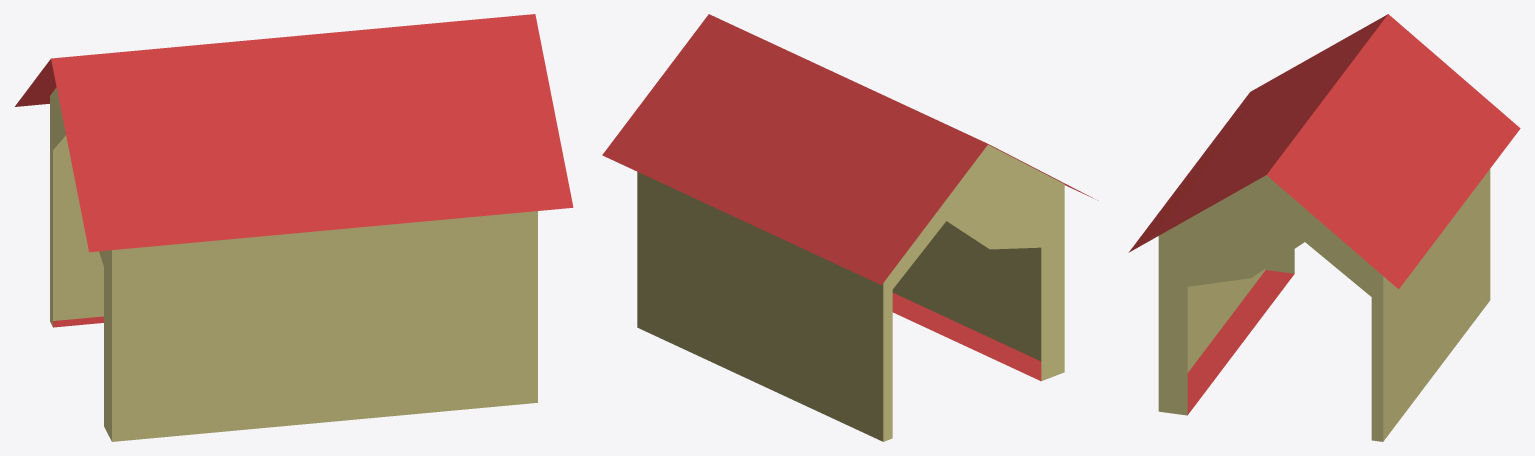
The picture shows the model from 3 angles, left to right: view 1: azimuth 30°, elevation 25°; view 2: azimuth 150°, elevation 25°; view 3: azimuth 270°, elevation 25°; orthographic projection. The views are drawn at different scales.
Size of the model in its own units: 19.42 by 16.29 by 11.99.
